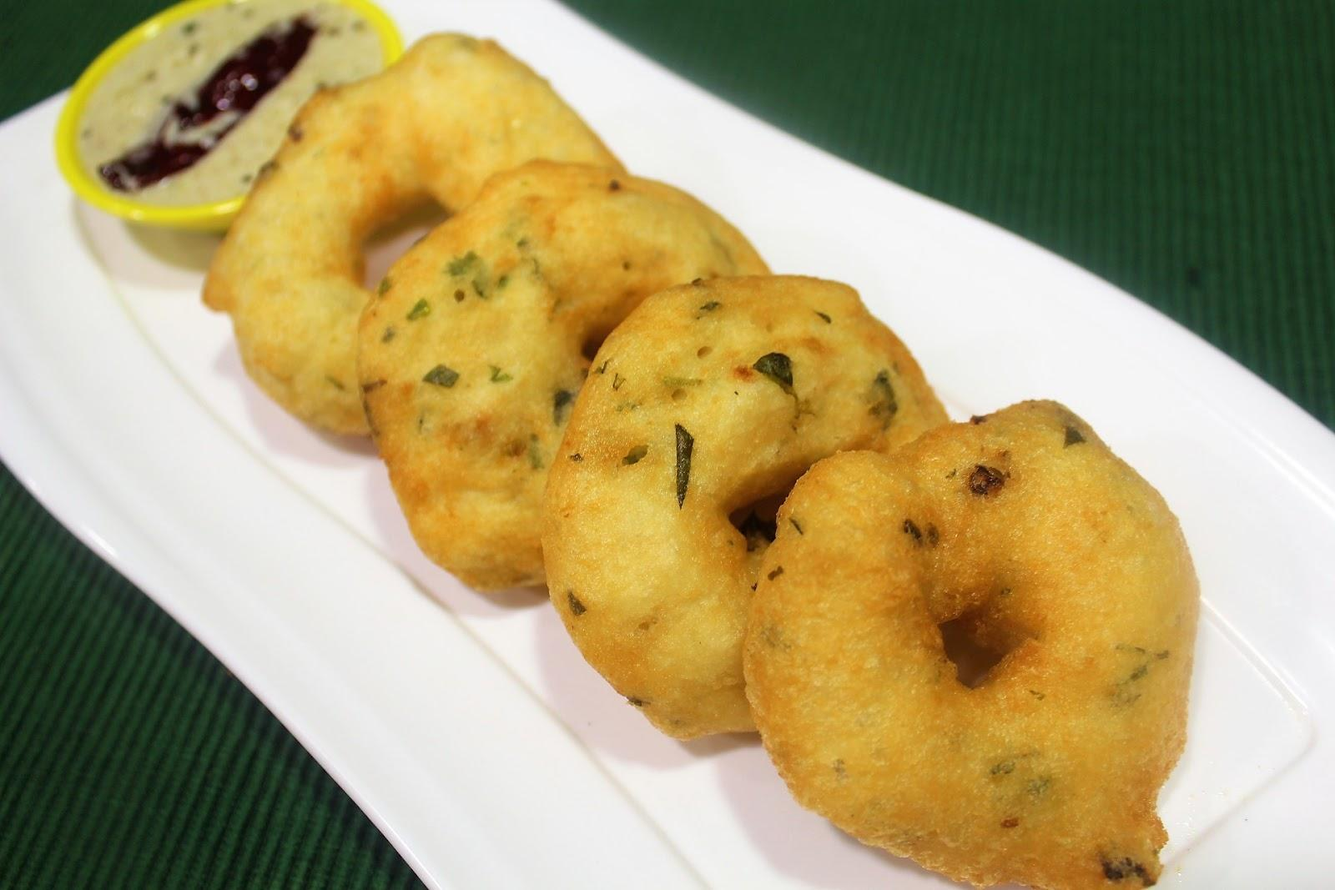mvada: (329, 132, 755, 498)
